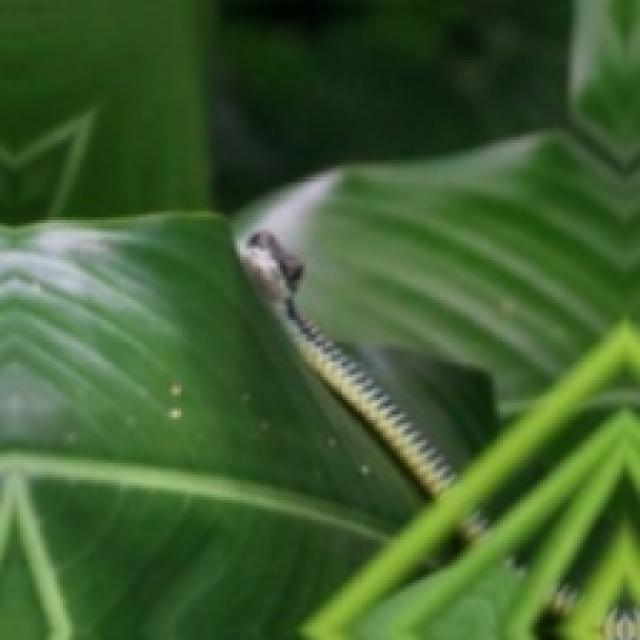paradise tree snake: (240, 229, 637, 637)
